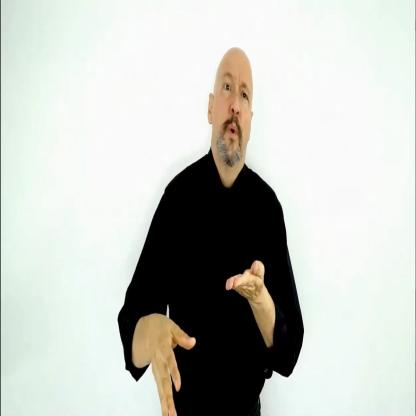Expensive: (144, 263, 272, 416)
